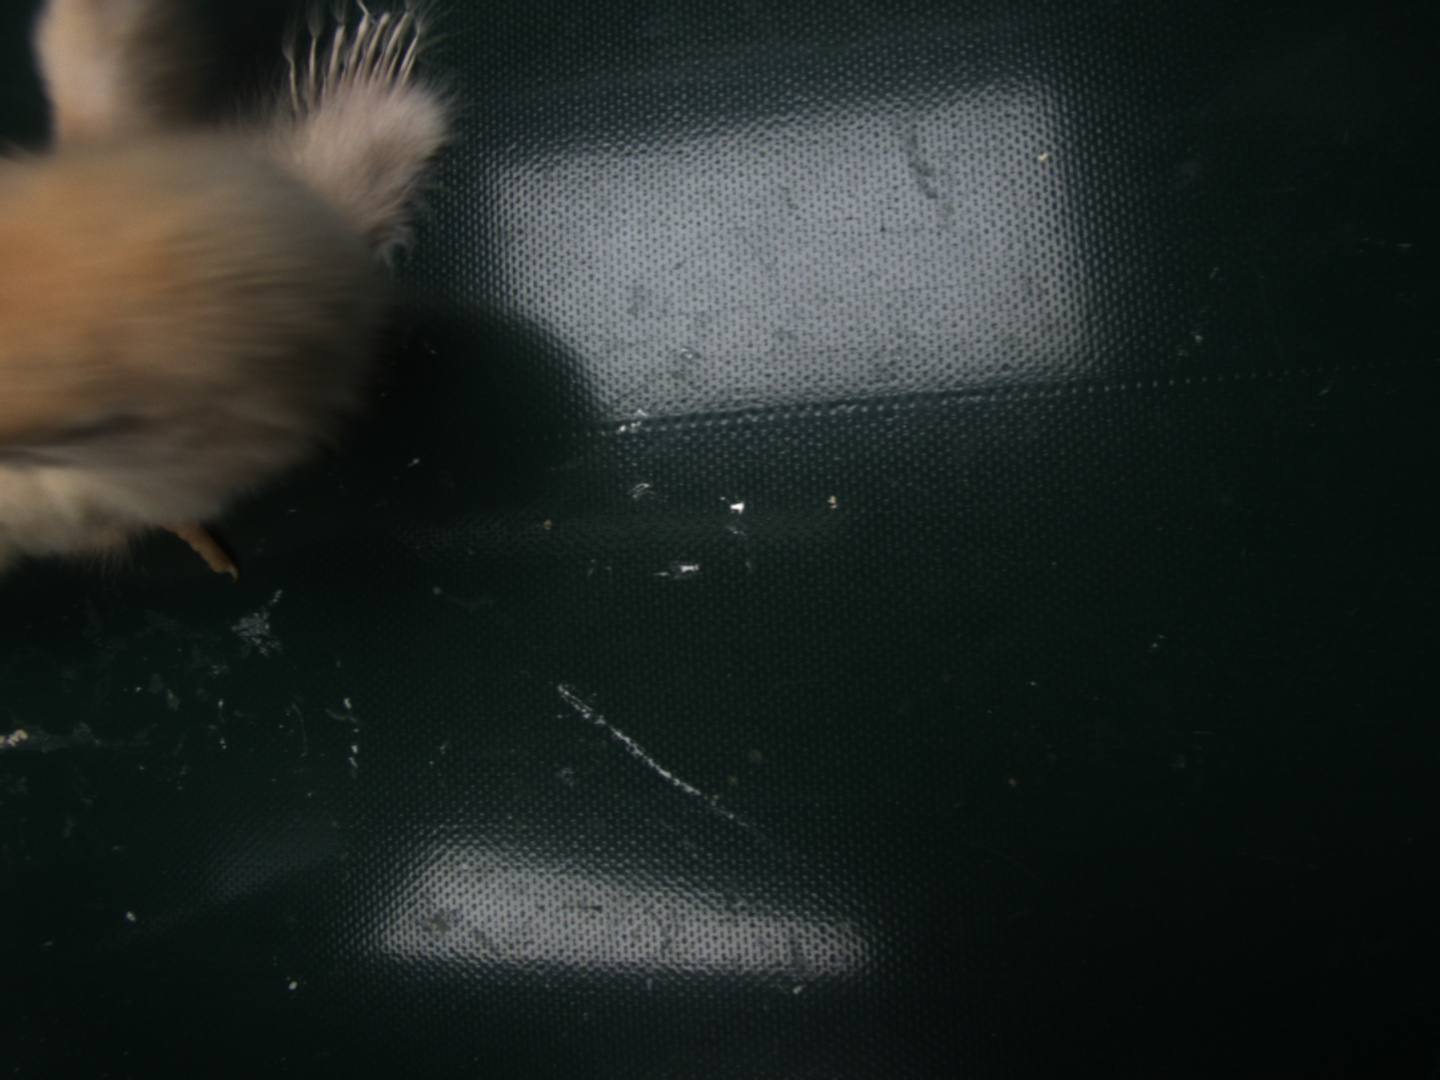female: (280, 1, 426, 123)
